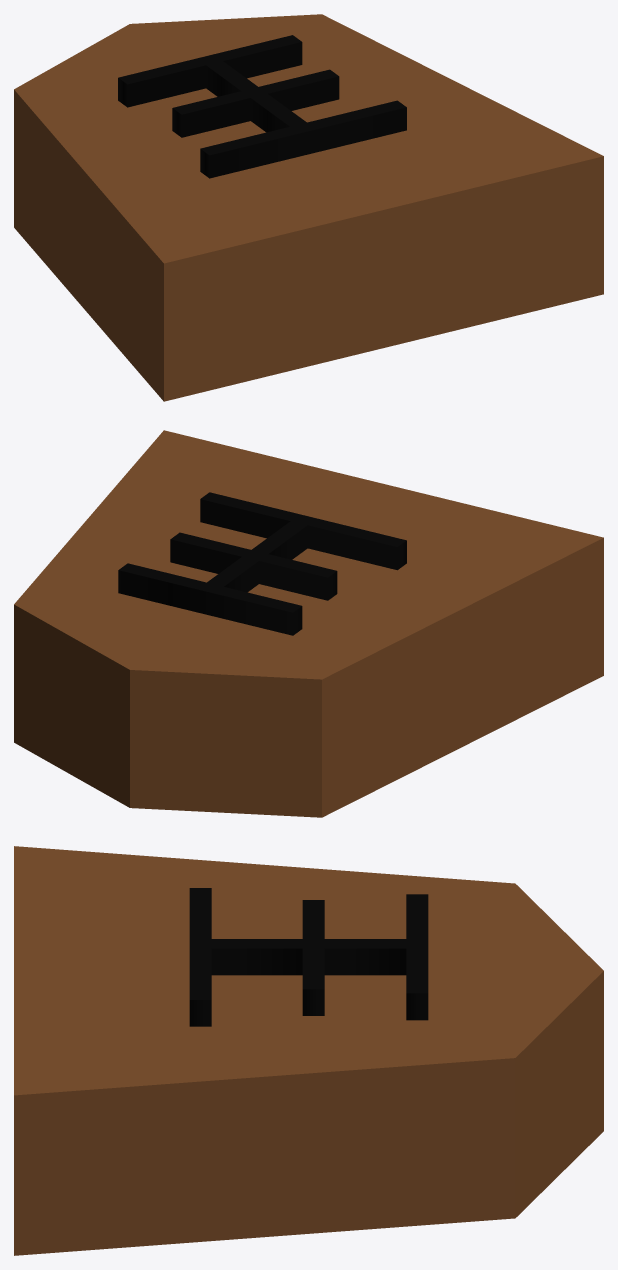
The picture shows the model from 3 angles, top to bottom: view 1: azimuth 30°, elevation 25°; view 2: azimuth 150°, elevation 25°; view 3: azimuth 270°, elevation 25°; orthographic projection. The views are drawn at different scales.
Parts seen in each view (by area): view 1: Cube, テキスト; view 2: Cube, テキスト; view 3: Cube, テキスト.
Part boxes in pixels (left/top/right/bottom): Cube: left=14, top=14, right=603, bottom=401; テキスト: left=118, top=35, right=406, bottom=178; Cube: left=14, top=430, right=603, bottom=817; テキスト: left=118, top=492, right=406, bottom=635; Cube: left=14, top=846, right=603, bottom=1255; テキスト: left=189, top=888, right=428, bottom=1026.
Size of the model in its own units: 200 by 70 by 200.
